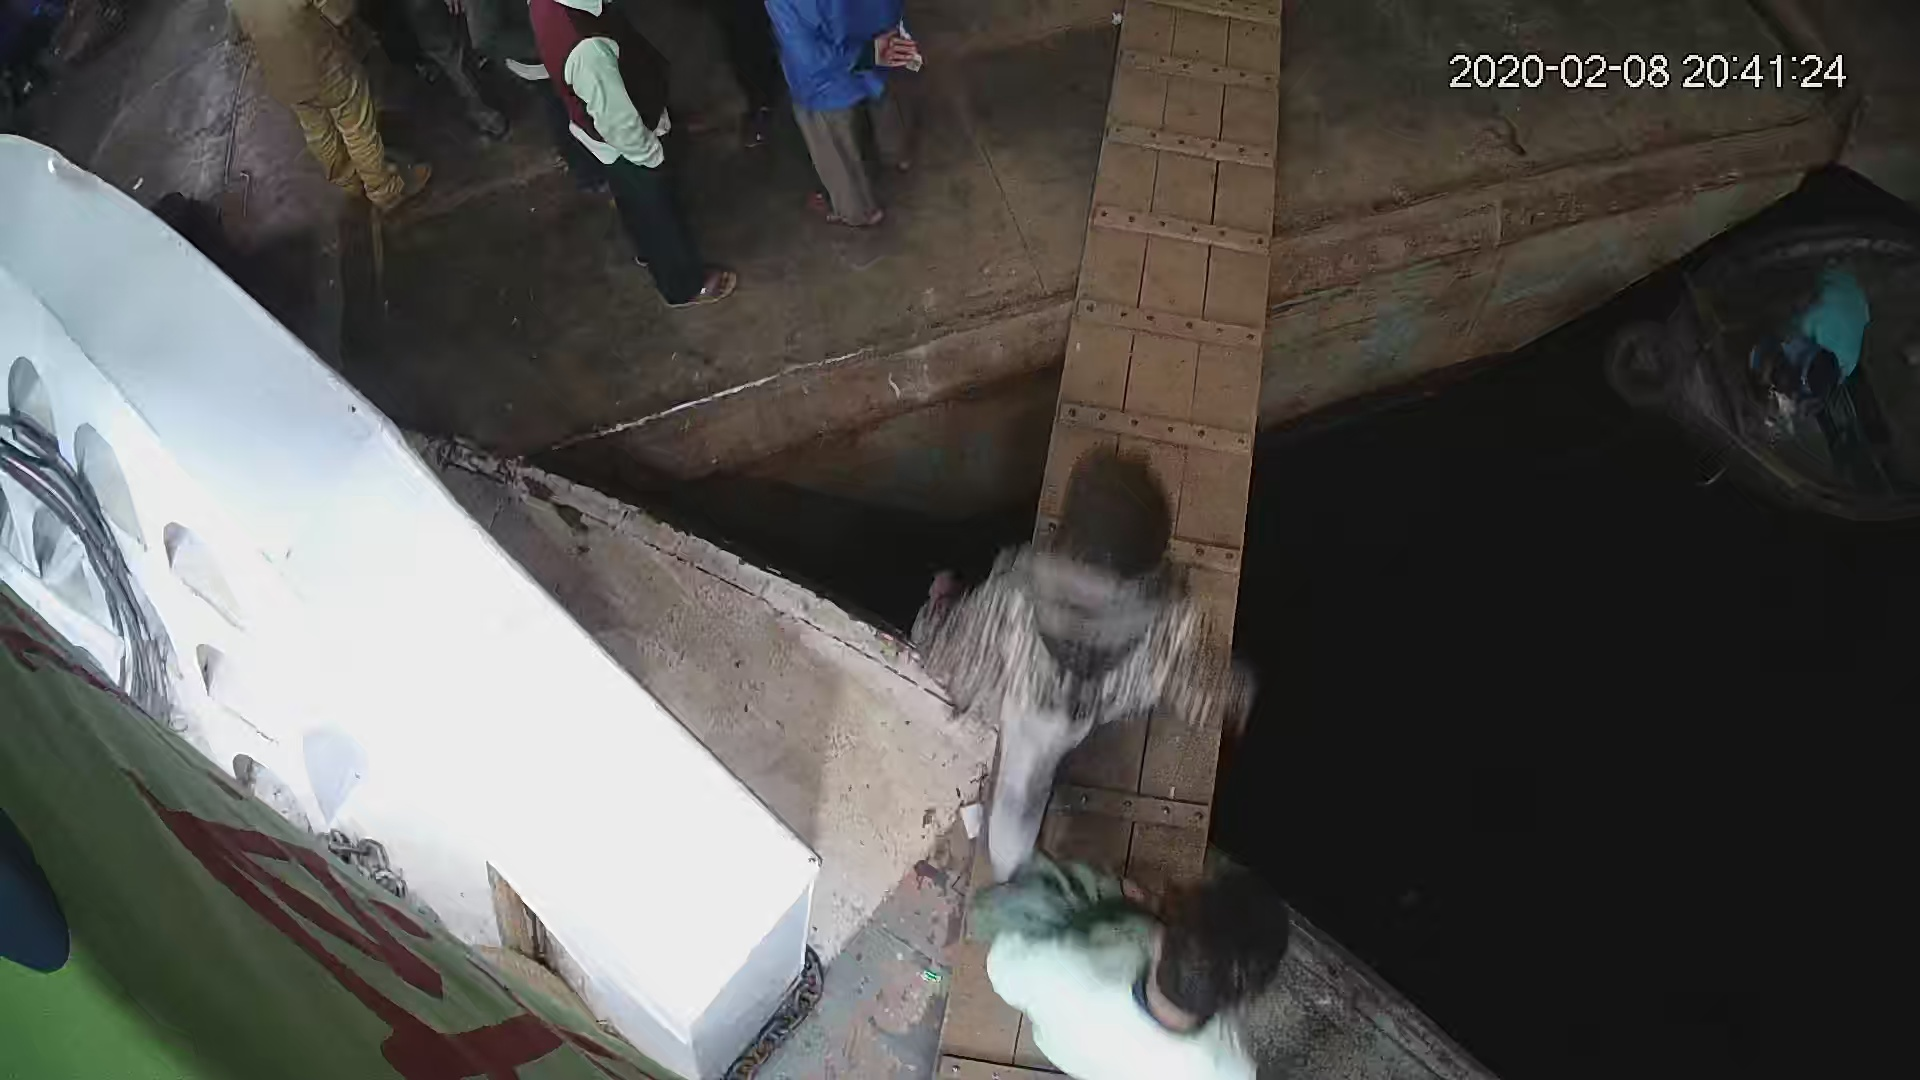person: (902, 445, 1252, 872), (967, 857, 1320, 1080), (524, 1, 740, 316), (225, 1, 433, 224), (1748, 265, 1883, 409)
